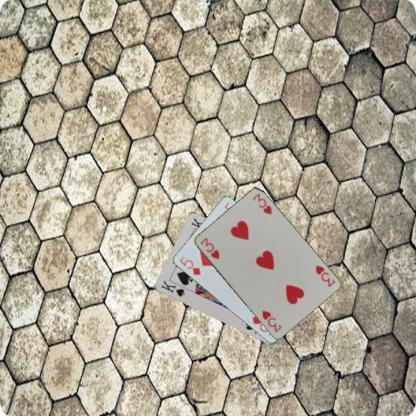3h: (312, 262, 336, 288), (198, 235, 220, 261)
5d: (176, 254, 202, 276)
Ks: (158, 278, 186, 298)
